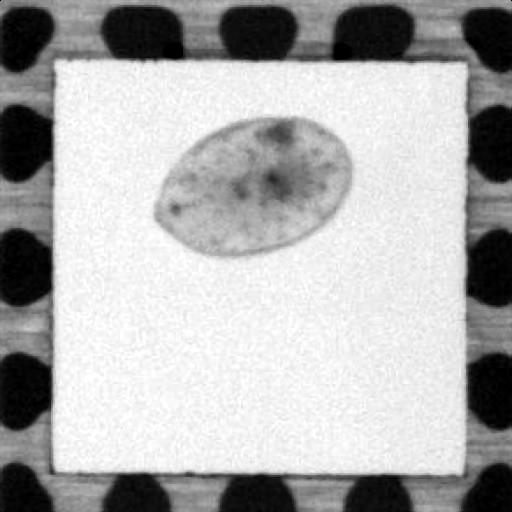DIE_INK: (136, 104, 364, 269)
